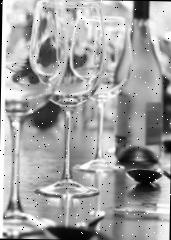glass: (2, 0, 133, 240), (111, 0, 166, 166)
